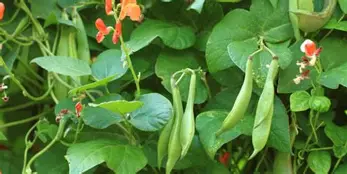crops: (0, 18, 340, 166)
